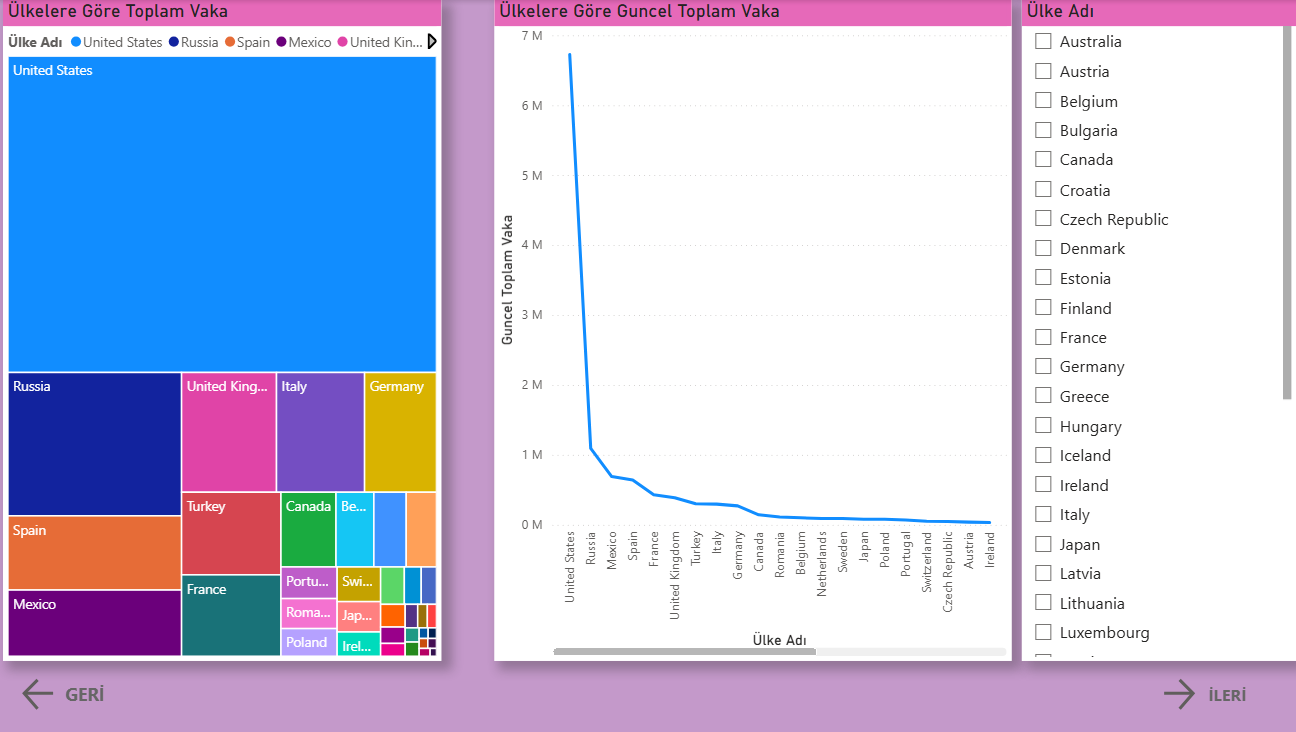

The dashboard page shown, as its layout file describes it:
{"tool":"powerbi","page":{"name":"Salgının Yayılımı ve Boyutu","canvas":[1280,720],"ordinal":2},"visuals":[{"type":"treemap","title":"Ülkelere Göre  Toplam Vaka","fields":{"Group":["owid-covid-data.Ülke Adı"],"Values":["Sum(owid-covid-data.Toplam Vaka)"]},"box":[9.8,0,430.7,649.1],"z":0},{"type":"lineChart","title":"Ülkelere Göre Guncel Toplam Vaka","fields":{"Y":["owid-covid-data.Vaka Yayılım Oranı"],"Category":["owid-covid-data.Ülke Adı"]},"box":[492,0,508,649.1],"z":1000},{"type":"slicer","title":"Ülke Adı","fields":{"Values":["owid-covid-data.Ülke Adı"]},"box":[1009.8,0,269.9,649.1],"z":2000},{"type":"actionButton","box":[24.5,661.4,131.3,40.5],"z":3000},{"type":"actionButton","box":[1143.6,661.4,136.2,40.5],"z":4000}]}

Visuals, with their boxes in screenshot pixels (x1, y1, x2, y2), scaled from the page's 1280x720 canvas onto the 1296x732 screenshot:
"Ülkelere Göre  Toplam Vaka" treemap: box=[10, 0, 446, 660]
"Ülkelere Göre Guncel Toplam Vaka" lineChart: box=[498, 0, 1012, 660]
"Ülke Adı" slicer: box=[1022, 0, 1295, 660]
actionButton: box=[25, 672, 158, 714]
actionButton: box=[1158, 672, 1295, 714]
